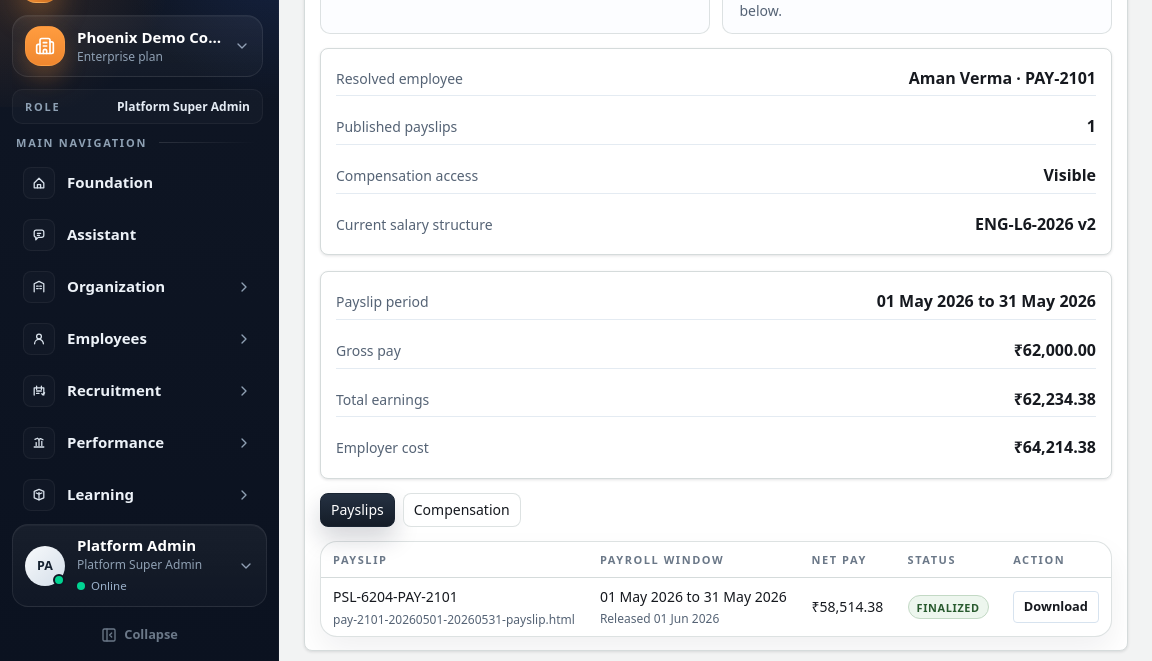
Test: PayrollSelfServicePage › shows approved compensation visibility when the session and payroll state both allow it
(page scrolled)
Step 1. Click the tab "Compensation" → coordinates (462, 510), box [403,493,521,527]
(page scrolled)
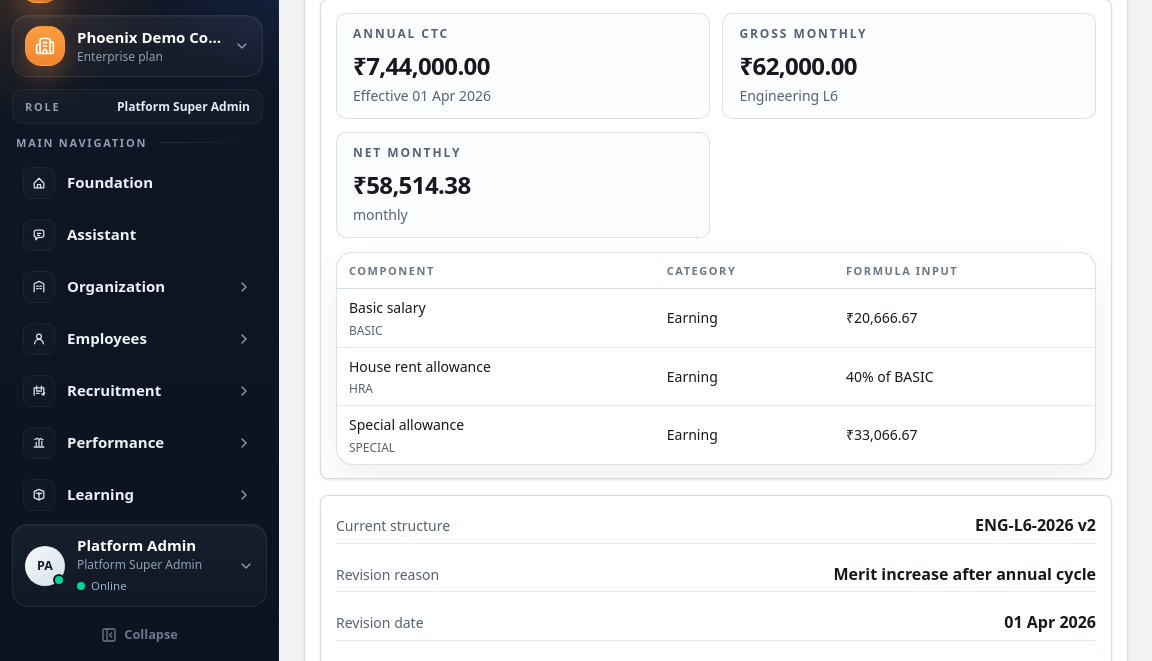
Now the text "Annual CTC" is shown, box [353,25,449,42]
Now the text "Basic salary" is shown, box [349,298,426,317]
